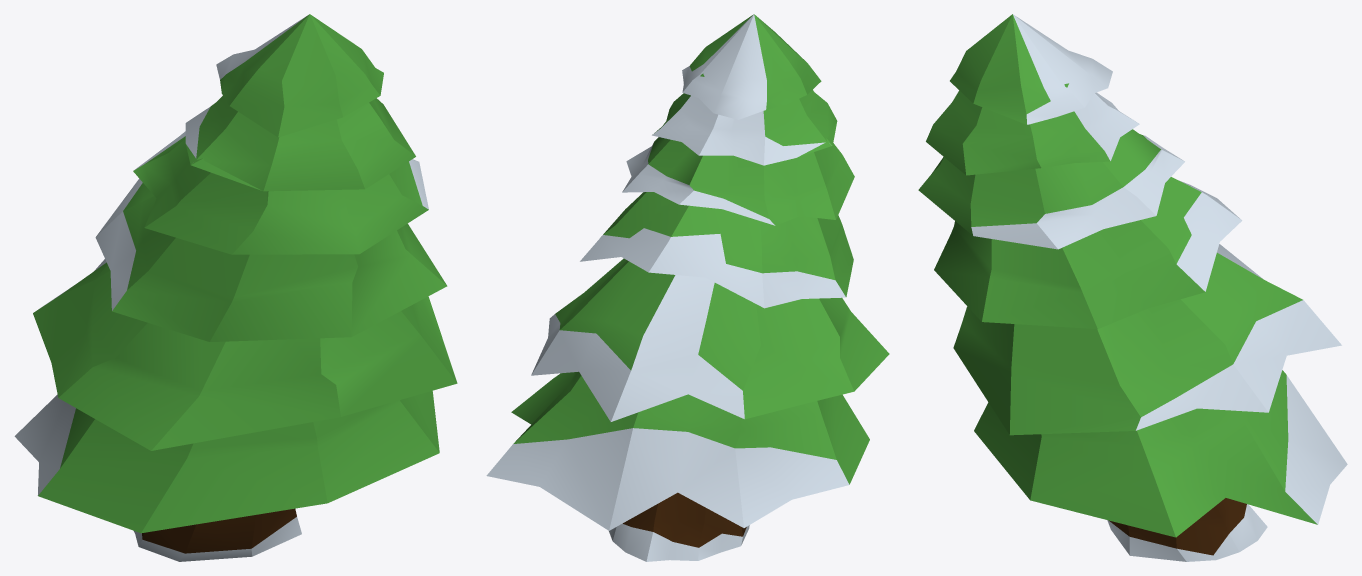
File: snow_tree.fbx
3 renders of one model, left to right at view 1: azimuth 30°, elevation 25°; view 2: azimuth 150°, elevation 25°; view 3: azimuth 270°, elevation 25°, orthographic. The views are drawn at different scales.
Visible parts, largest first — view 1: FirTreeSnow; view 2: FirTreeSnow; view 3: FirTreeSnow.
Part boxes in pixels (<box>): FirTreeSnow: <box>14,14,457,561</box>; FirTreeSnow: <box>486,14,889,561</box>; FirTreeSnow: <box>918,14,1347,561</box>.
Size of the model in its own units: 2.98 by 4.05 by 3.05.
